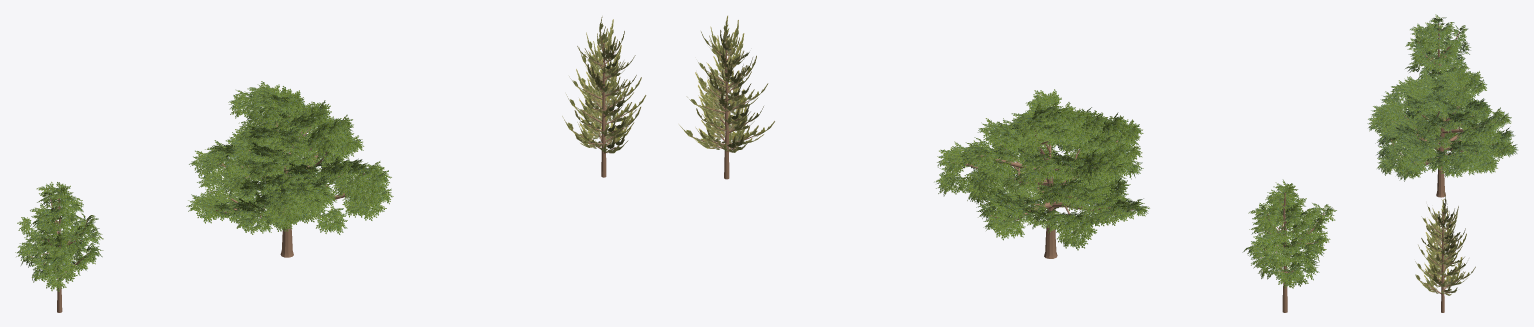
File: 3 Trees Test FBX (v2 Pine).fbx
3 views of the same model, side by side, from view 1: azimuth 30°, elevation 25°; view 2: azimuth 150°, elevation 25°; view 3: azimuth 270°, elevation 25° (orthographic). The views are drawn at different scales.
Visible parts, largest first — view 1: polySurface123, Leaves_Large135, Large_Tree_Trunk; view 2: polySurface123, Leaves_Large135, Large_Tree_Trunk, Small_Tree_Trunk; view 3: polySurface123, Leaves_Large135, Large_Tree_Trunk, polySurface65, pPlane79, pPlane76, pPlane90, pPlane78, pPlane86, Small_Tree_Trunk, pPlane92, pPlane82.
Part boxes in pixels (bbox=[...]): polySurface123: bbox=[186, 81, 393, 234]; Leaves_Large135: bbox=[15, 181, 103, 291]; Large_Tree_Trunk: bbox=[208, 108, 364, 257]; polySurface123: bbox=[934, 89, 1149, 250]; Leaves_Large135: bbox=[1242, 179, 1336, 288]; Large_Tree_Trunk: bbox=[952, 121, 1133, 258]; Small_Tree_Trunk: bbox=[1260, 192, 1324, 312]; polySurface123: bbox=[1367, 66, 1518, 181]; Leaves_Large135: bbox=[1405, 14, 1470, 79]; Large_Tree_Trunk: bbox=[1386, 87, 1502, 197]; polySurface65: bbox=[1441, 211, 1444, 312]; pPlane79: bbox=[1444, 257, 1462, 289]; pPlane76: bbox=[1415, 274, 1441, 293]; pPlane90: bbox=[1444, 233, 1466, 261]; pPlane78: bbox=[1444, 266, 1475, 287]; pPlane86: bbox=[1425, 232, 1441, 259]; Small_Tree_Trunk: bbox=[1414, 23, 1459, 75]; pPlane92: bbox=[1425, 218, 1441, 247]; pPlane82: bbox=[1415, 261, 1441, 281].
Size of the model in its own units: 72.92 by 18.05 by 20.55.
Materials: 2 (1 with a texture image).
